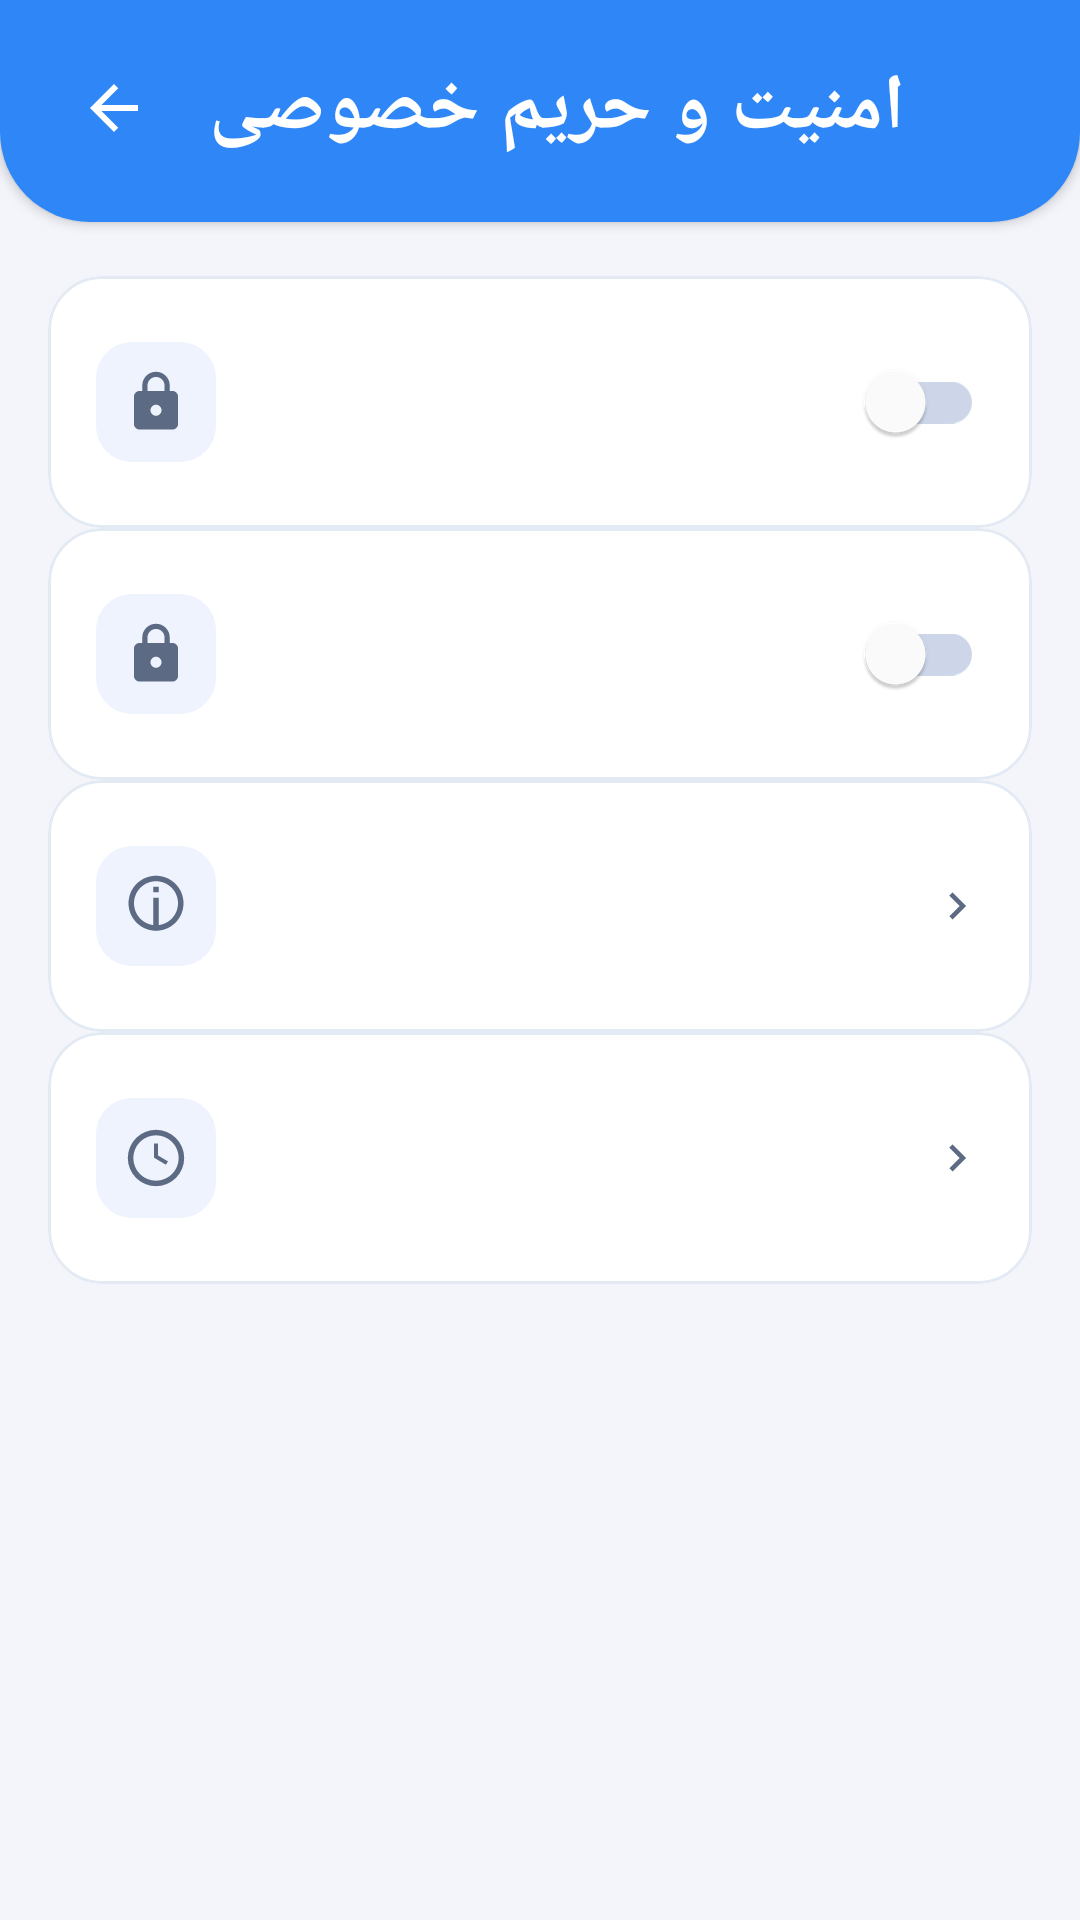

Point at icon controls on the screen. Image size 1080×1920, points as (x,y).
about: (156,903)
auto lock: (156,1157)
lock: (156,400), (156,652)
بازگشت: (114,108)
رفتن به جزئیات: (957,906), (957,1158)
